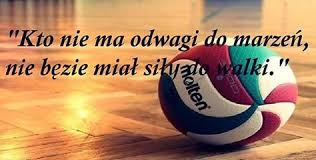ball: (158, 37, 299, 147)
